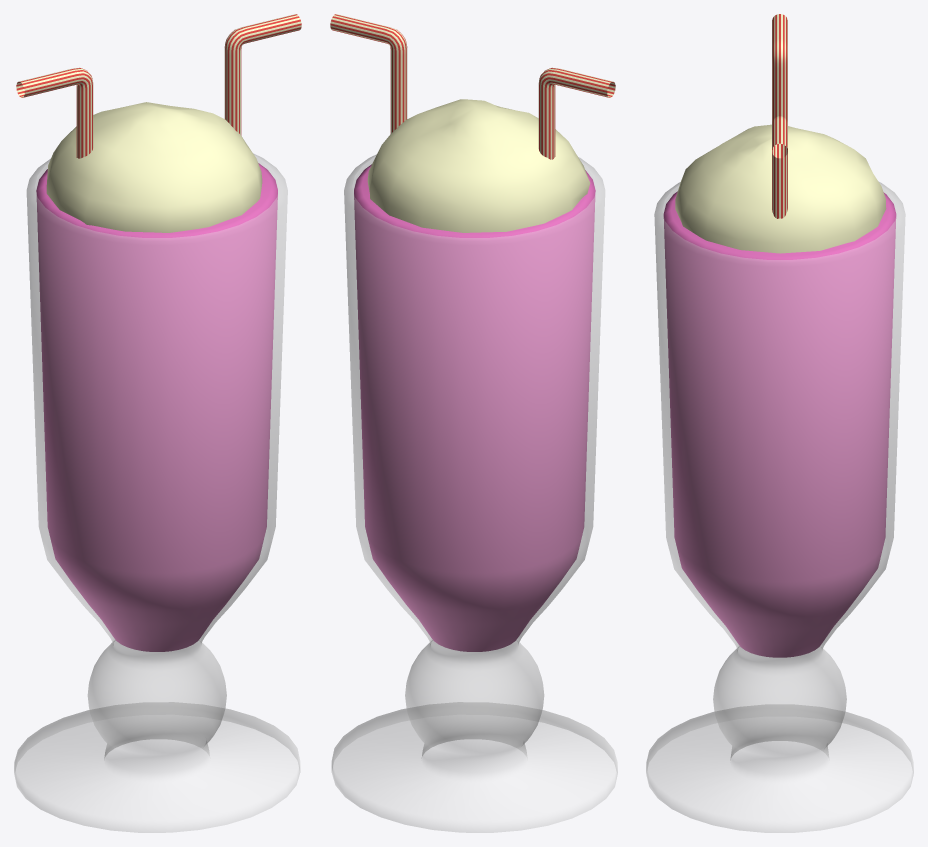
File: Milkshake.fbx
3 renders of one model, left to right at view 1: azimuth 30°, elevation 25°; view 2: azimuth 150°, elevation 25°; view 3: azimuth 270°, elevation 25°, orthographic. The views are drawn at different scales.
Parts seen in each view (by area): view 1: Milkshake; view 2: Milkshake; view 3: Milkshake.
Boxes of the visible parts, x1,y1,x2,y2 form: Milkshake: (14,14,301,832); Milkshake: (330,14,617,832); Milkshake: (646,14,913,832).
Size of the model in its own units: 26.62 by 66.56 by 23.15.
